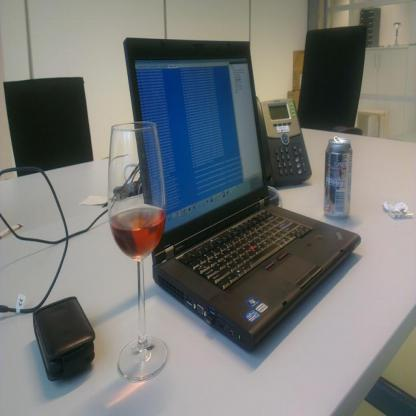board: (122, 36, 362, 342), (323, 138, 353, 221)
